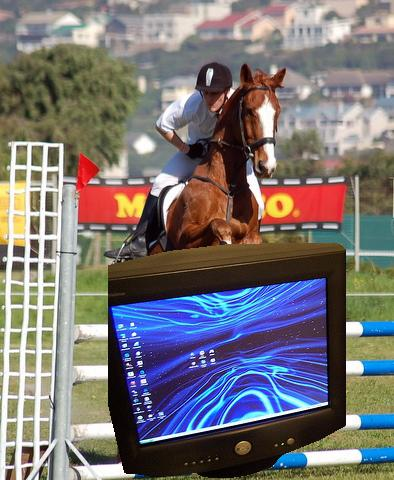tampered: (109, 244, 346, 478)
